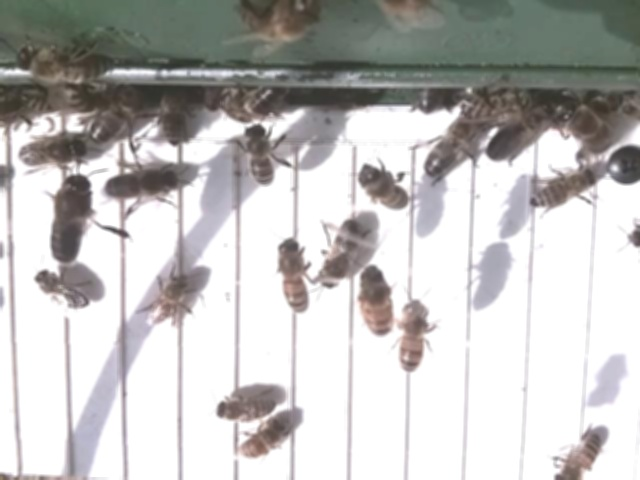Drone: (46, 172, 94, 269), (314, 215, 365, 296), (419, 118, 474, 184), (554, 97, 613, 158), (98, 163, 183, 205), (15, 134, 88, 172), (482, 116, 534, 169)
Worker: (526, 168, 597, 214), (274, 234, 309, 317), (352, 164, 409, 213), (356, 265, 393, 339), (396, 298, 430, 376), (32, 269, 92, 312), (551, 431, 603, 480), (239, 125, 275, 191), (146, 273, 189, 327), (234, 420, 286, 464), (212, 395, 278, 425)
